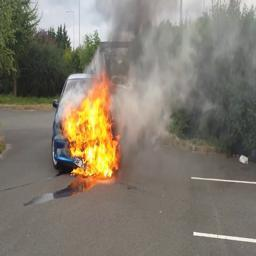fire: (62, 71, 124, 177)
